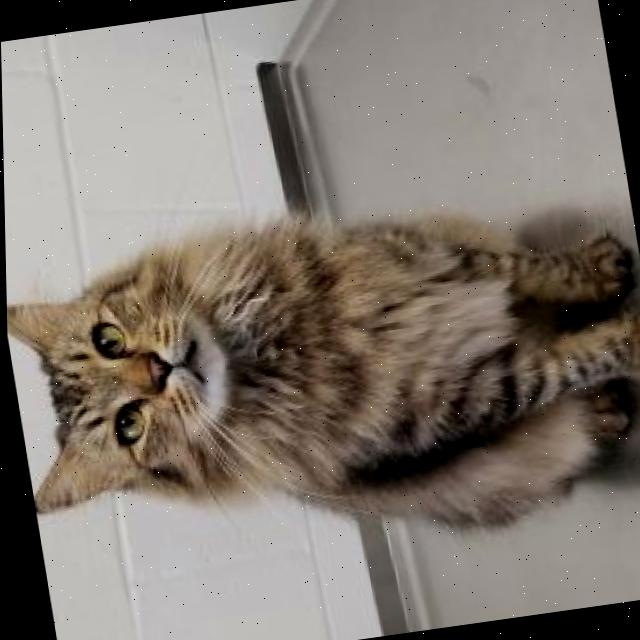Maine Coon: (3, 170, 640, 592)
